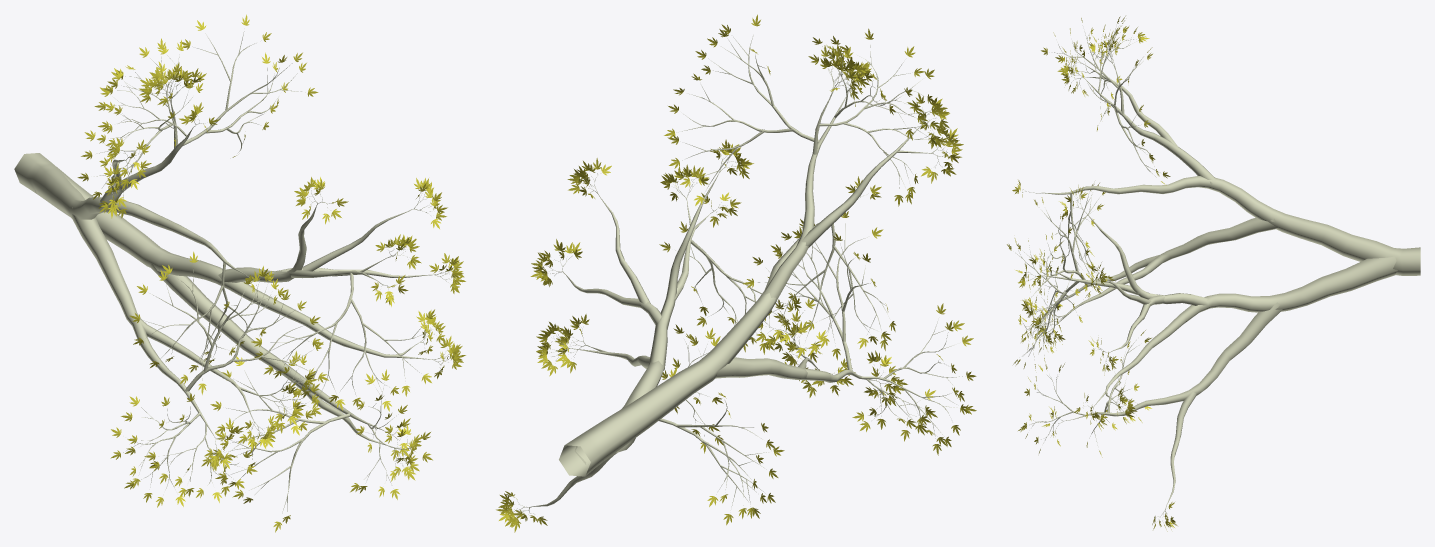
The model's file is tree1WithLeaves_high.glb.
3 renders of one model, left to right at view 1: azimuth 30°, elevation 25°; view 2: azimuth 150°, elevation 25°; view 3: azimuth 270°, elevation 25°, orthographic. The views are drawn at different scales.
Parts seen in each view (by area): view 1: tree1WithLeaves; view 2: tree1WithLeaves; view 3: tree1WithLeaves.
Part boxes in pixels (x1,y1,x2,y2): tree1WithLeaves: (14,14,465,532); tree1WithLeaves: (496,14,976,532); tree1WithLeaves: (1007,16,1420,531).
Size of the model in its own units: 1.96 by 2.51 by 2.3.
